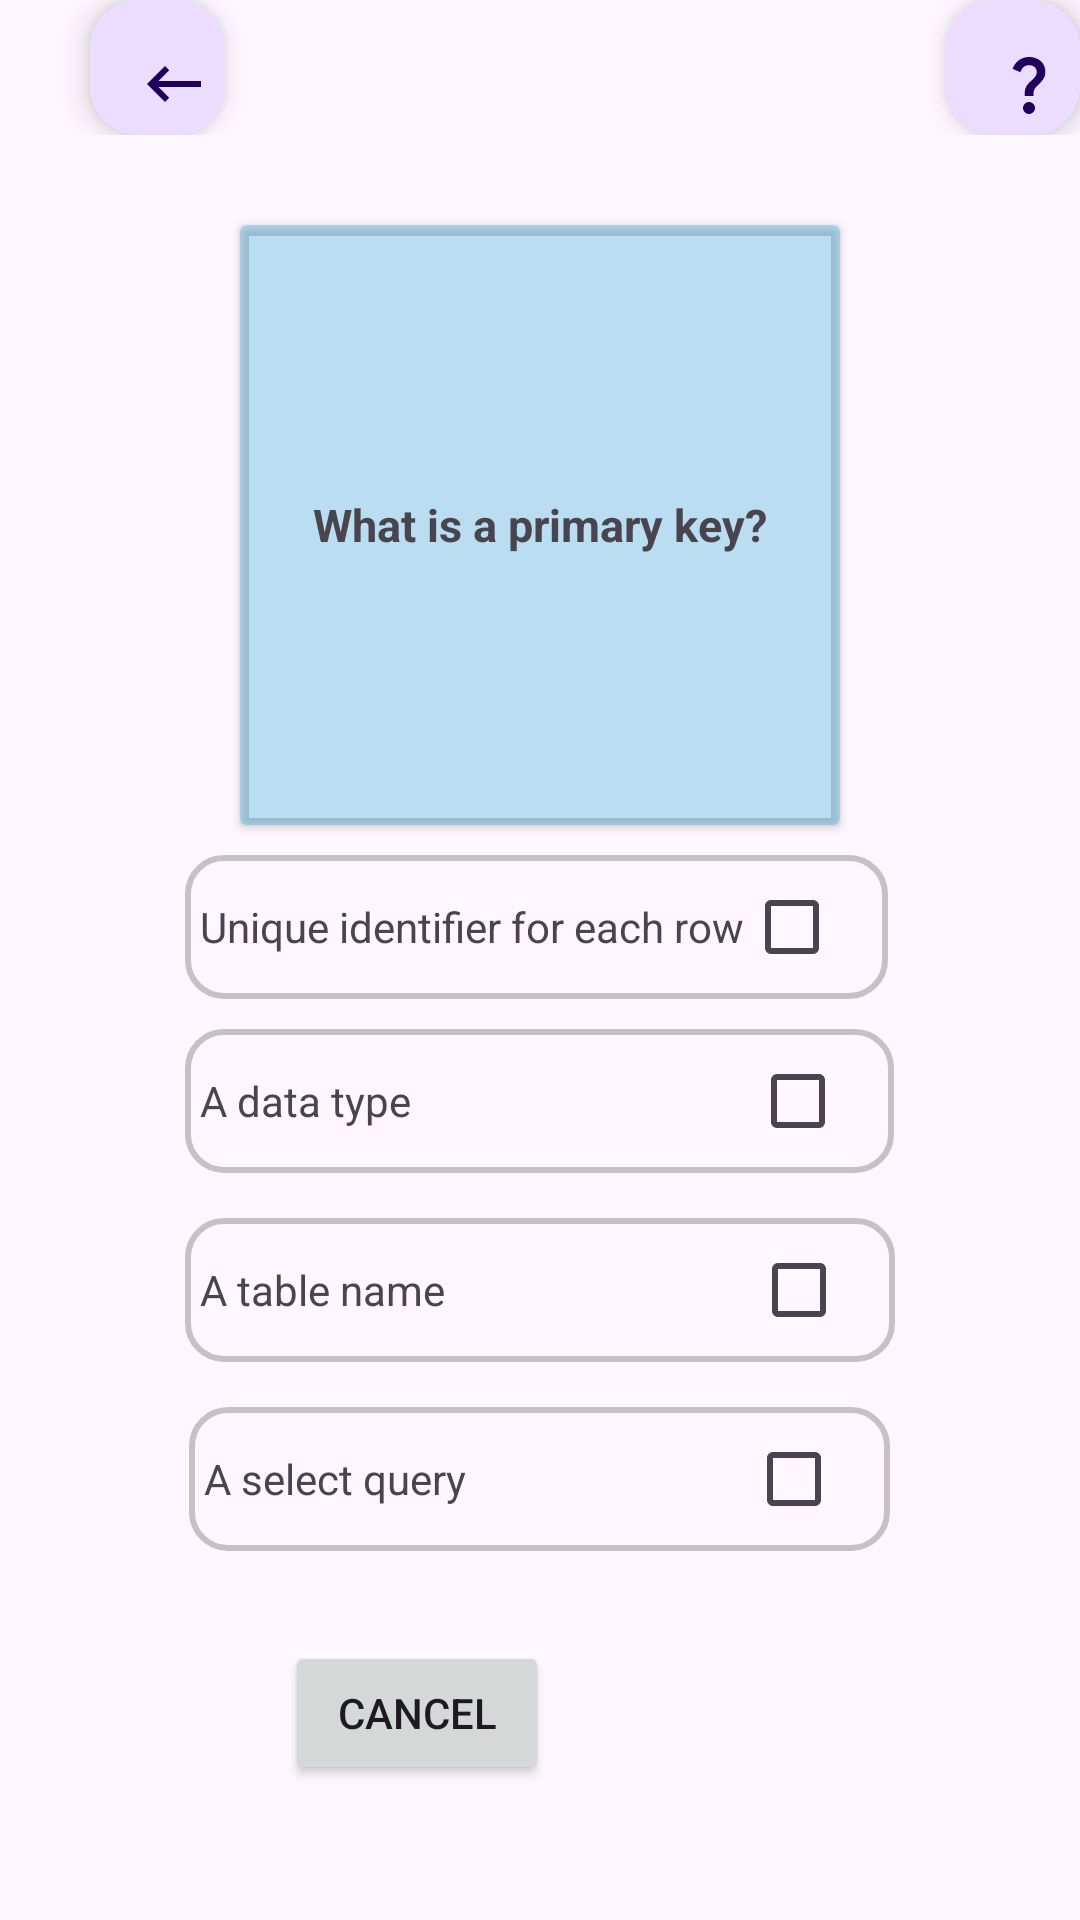

Icons on this 1080*1920 Android screen, each with the point to tap as (x=x, y=y):
keyboard backspace: (x=157, y=67)
question mark: (x=1012, y=67)
